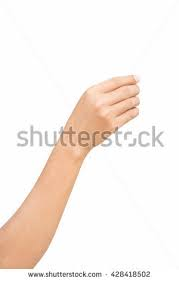hand: (56, 60, 151, 151)
